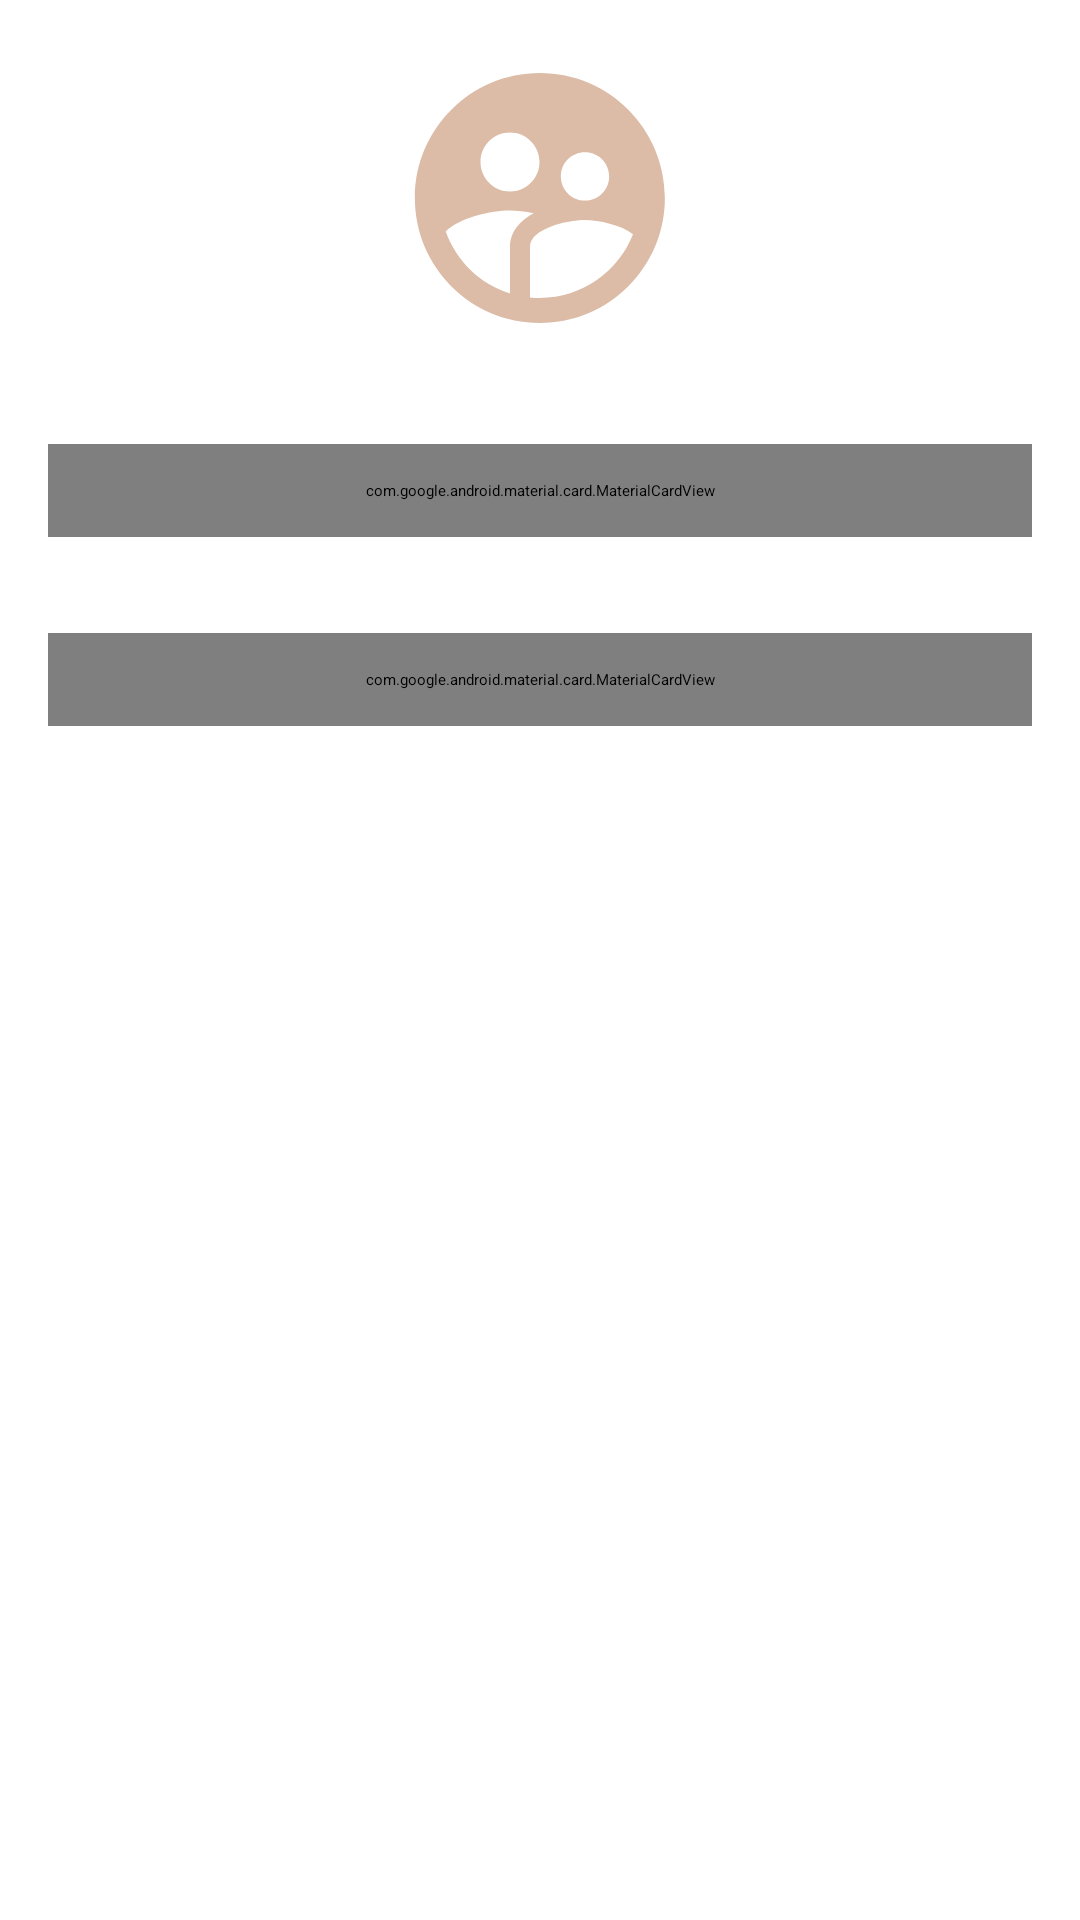

Where icons sit on this 1080 x 1920 app screen, as (x1, y1, x2, y2):
Vendor Profile Image: (415, 73, 665, 323)
